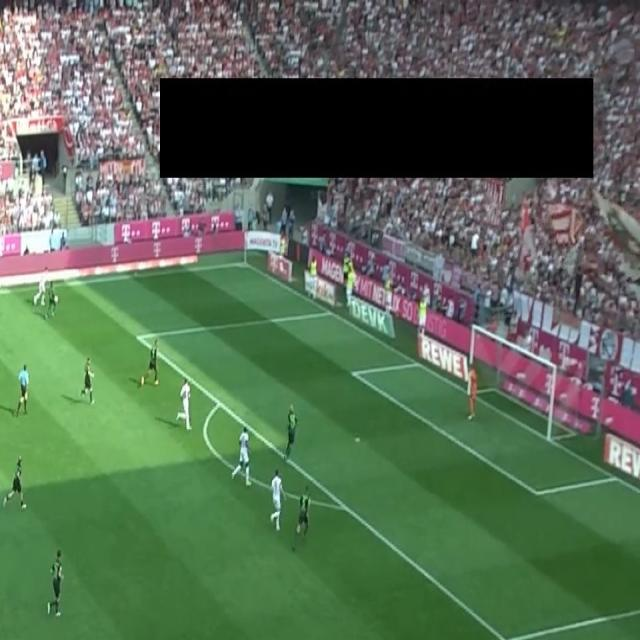ball: (54, 294, 59, 304)
